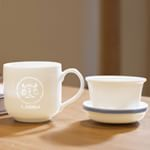cups: (1, 59, 87, 127), (82, 70, 150, 126)
